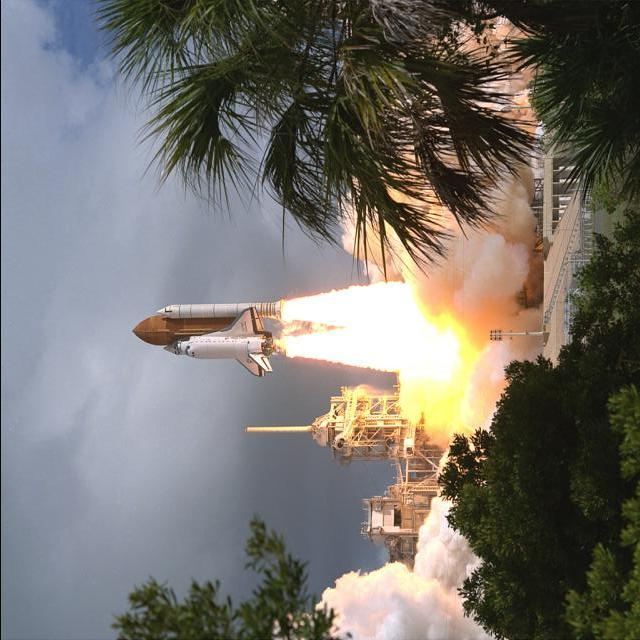missile: (154, 294, 286, 323), (241, 423, 317, 435)
